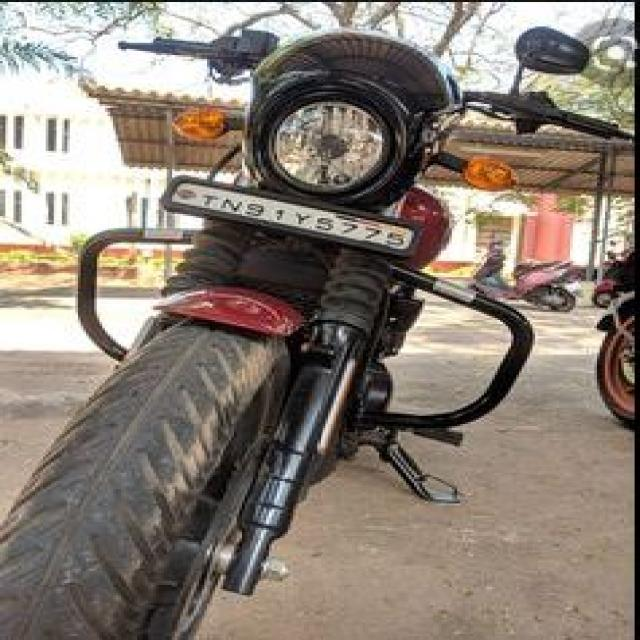license_plate: (162, 175, 420, 257)
